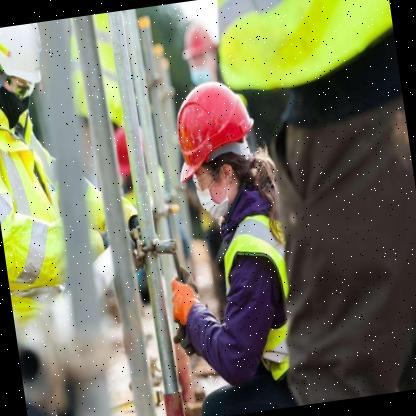capacete: (167, 76, 261, 182), (0, 21, 52, 93)
oculos: (0, 69, 41, 105), (186, 164, 224, 194)
